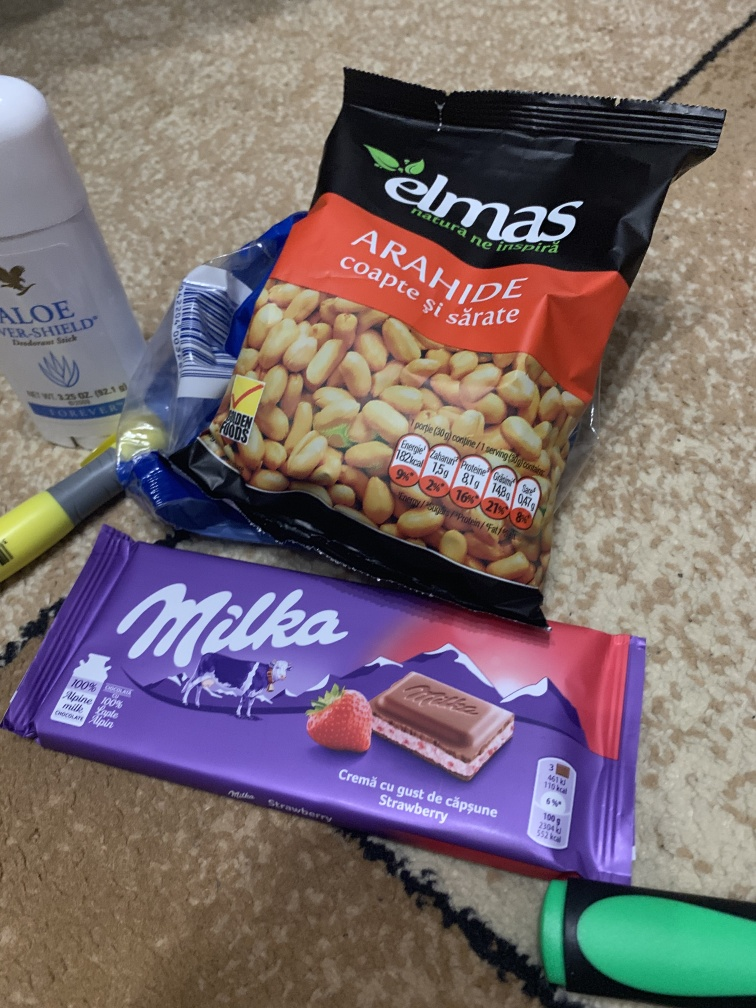milka: (9, 524, 642, 891)
peanuts: (162, 61, 728, 632)
